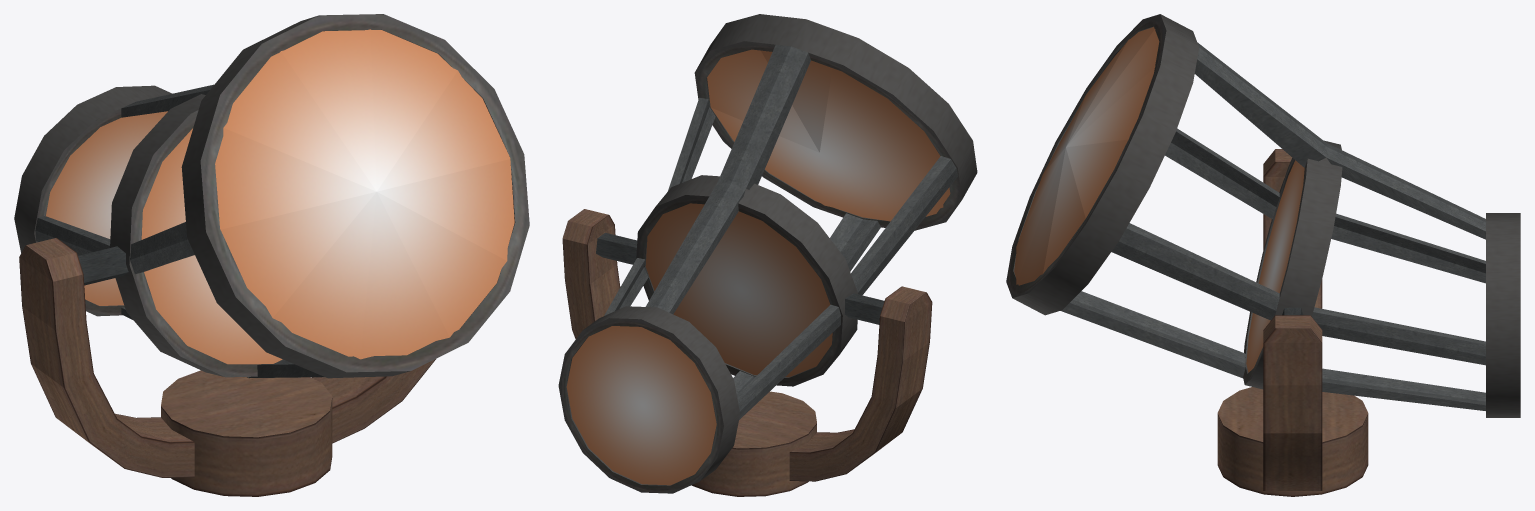
File: Burning Glass_Weapon.fbx
The picture shows the model from 3 angles, left to right: view 1: azimuth 30°, elevation 25°; view 2: azimuth 150°, elevation 25°; view 3: azimuth 270°, elevation 25°; orthographic projection. The views are drawn at different scales.
Visible parts, largest first — view 1: polySurface390; view 2: polySurface390; view 3: polySurface390.
Boxes of the visible parts, left/top/right/bottom form: polySurface390: left=14, top=14, right=529, bottom=496; polySurface390: left=558, top=14, right=977, bottom=496; polySurface390: left=1006, top=14, right=1520, bottom=496.
Bounding box in the file's own units: 64.8 × 73.27 × 78.6.
Materials: 2 (2 with a texture image).
